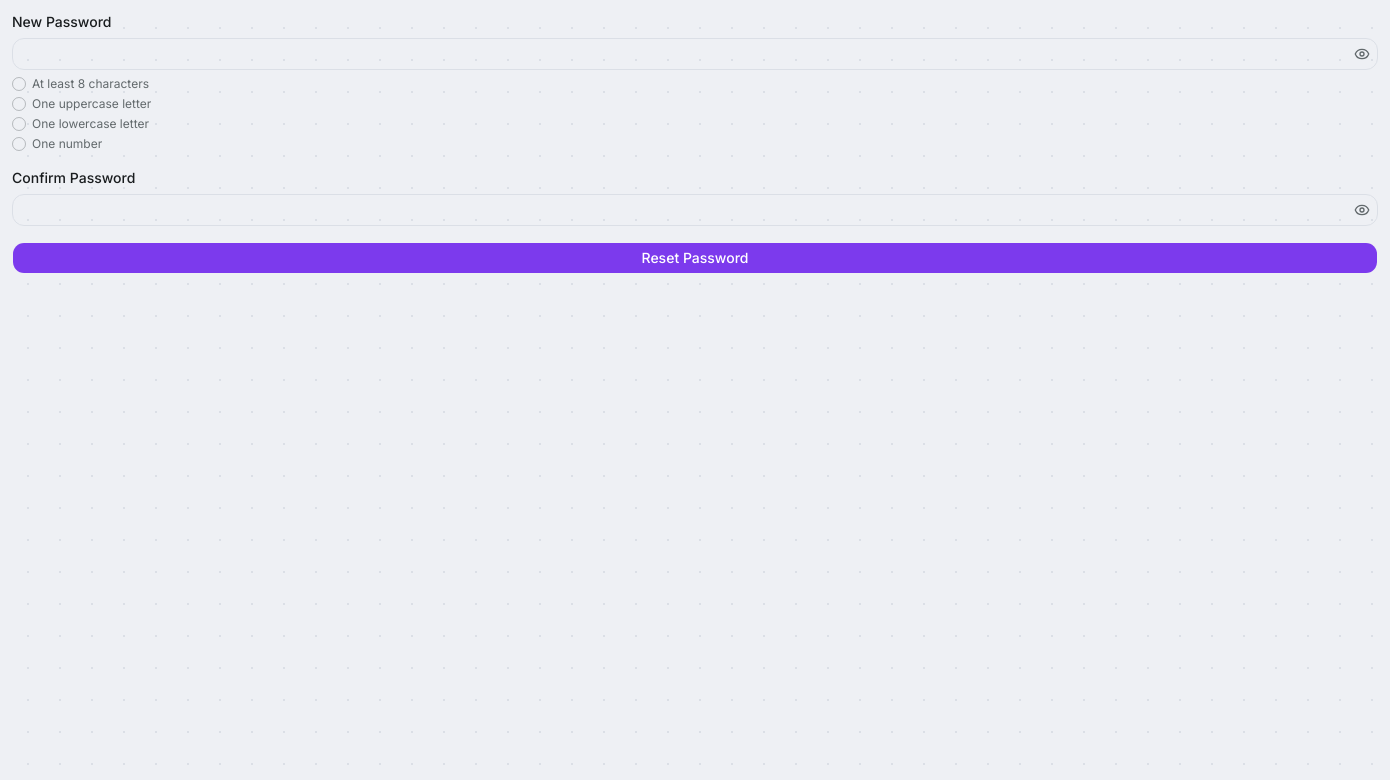
ResetPasswordForm › maps the token_expired API error code to its own message
In the password field labelled "New Password": (695, 54) x1=12 y1=38 x2=1378 y2=70, type "Password123"
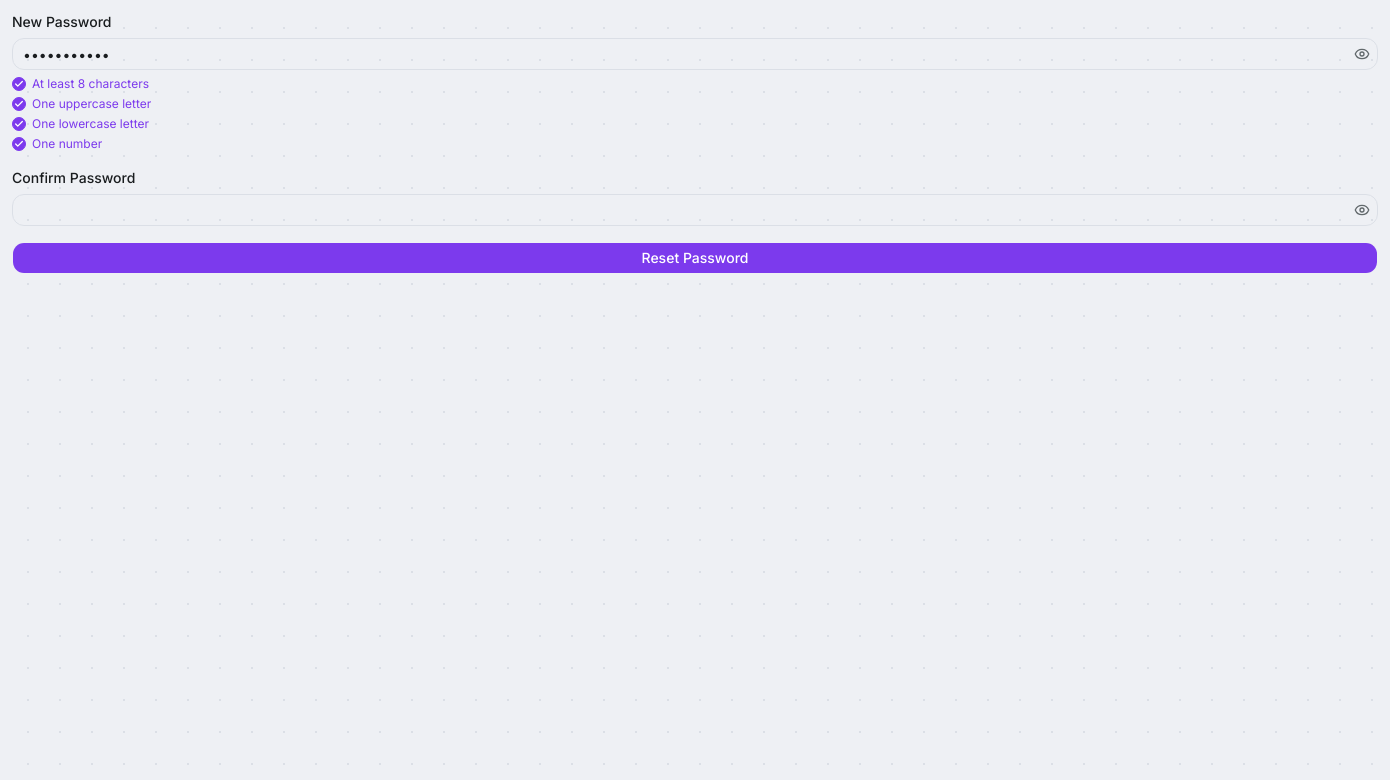
In the password field labelled "Confirm Password": (695, 210) x1=12 y1=194 x2=1378 y2=226, type "Password123"
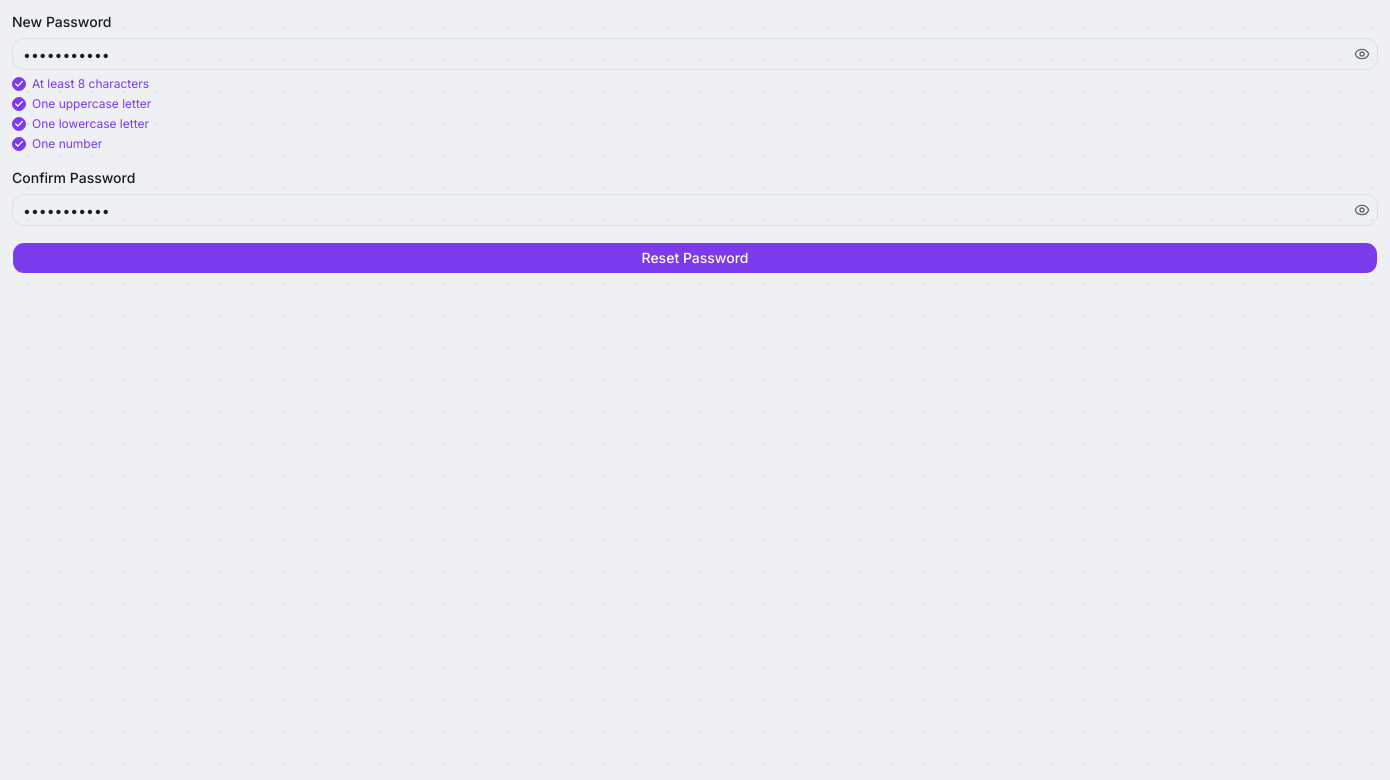
Click the button "Reset Password": (695, 258) x1=12 y1=242 x2=1378 y2=274
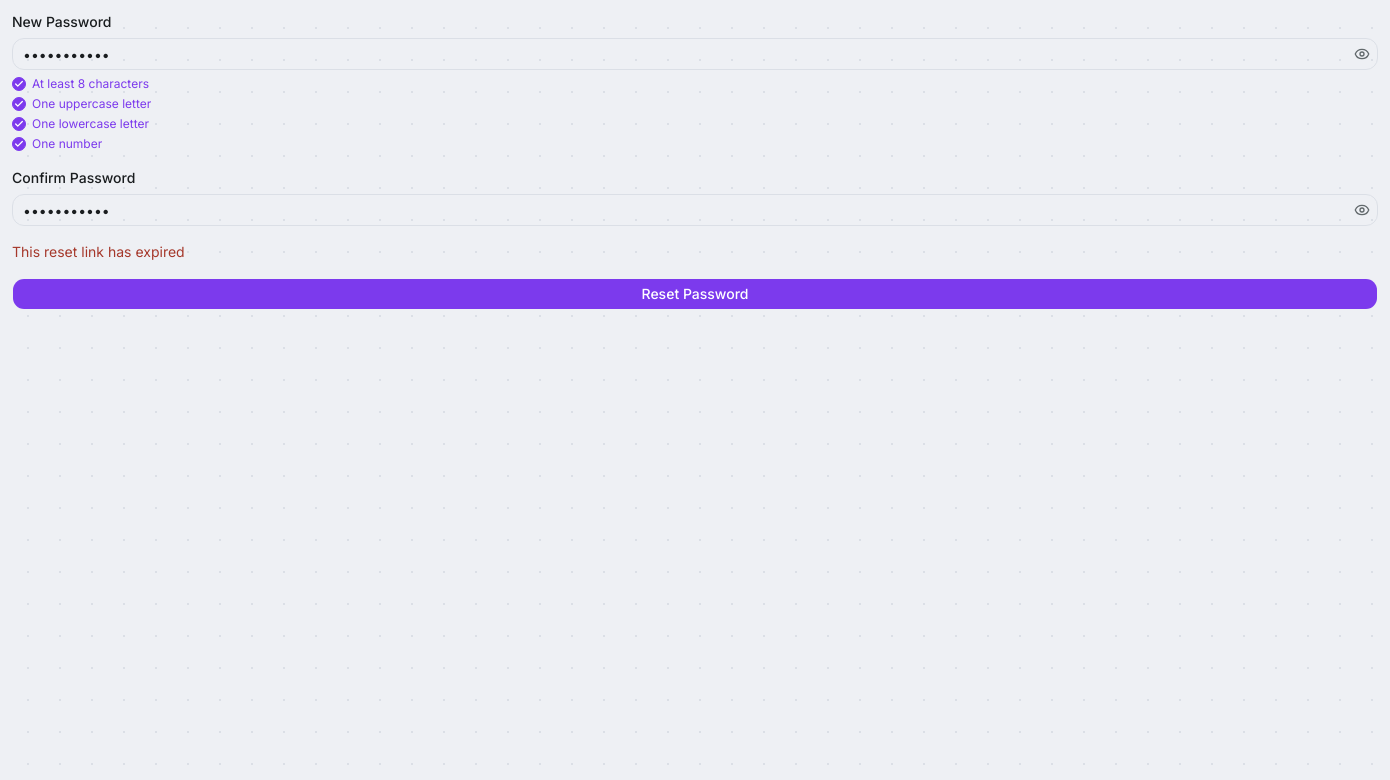
Now the text "This reset link has expired" is shown, box x1=12 y1=243 x2=185 y2=260
